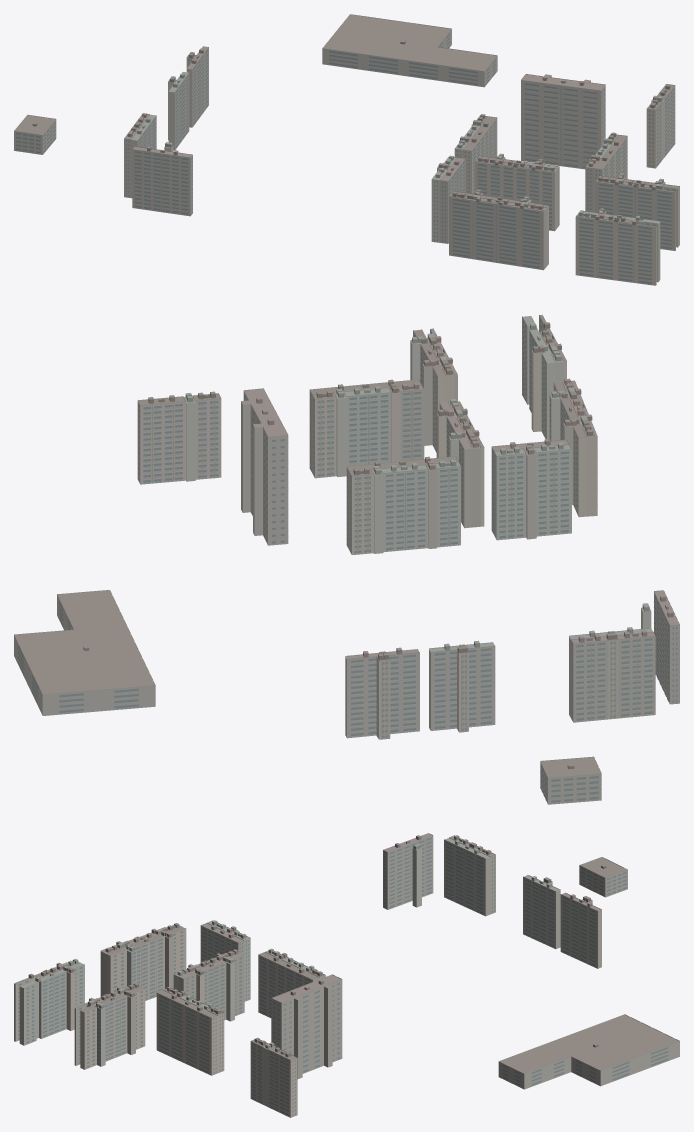
The picture shows the model from 3 angles, top to bottom: view 1: azimuth 30°, elevation 25°; view 2: azimuth 150°, elevation 25°; view 3: azimuth 270°, elevation 25°; orthographic projection. The views are drawn at different scales.
Parts seen in each view (by area): view 1: context-window-bays__context-glass, context-walls-apartment-2__context-wall-apartment-2, context-walls-apartment-1__context-wall-apartment-1, context-walls-lowrise-0__context-wall-lowrise-0, context-roofs__context-roof-1, context-balcony-fronts__context-balcony-2, context-balcony-fronts__context-balcony-1, context-floor-strips__context-trim-2, context-roofs__context-roof-2, context-walls-lowrise-1__context-wall-lowrise-1, context-walls-apartment-0__context-wall-apartment-0, context-parapet__context-trim-1 (+8 smaller); view 2: context-window-bays__context-glass, context-walls-apartment-0__context-wall-apartment-0, context-walls-apartment-1__context-wall-apartment-1, context-roofs__context-roof-1, context-walls-lowrise-0__context-wall-lowrise-0, context-walls-apartment-2__context-wall-apartment-2, context-walls-lowrise-1__context-wall-lowrise-1, context-balcony-fronts__context-balcony-0, context-balcony-fronts__context-balcony-2, context-roofs__context-roof-2, context-stair-core__context-trim-1, context-balcony-fronts__context-balcony-1 (+11 smaller); view 3: context-window-bays__context-glass, context-walls-apartment-1__context-wall-apartment-1, context-walls-lowrise-0__context-wall-lowrise-0, context-walls-apartment-2__context-wall-apartment-2, context-roofs__context-roof-1, context-walls-apartment-0__context-wall-apartment-0, context-balcony-fronts__context-balcony-1, context-walls-lowrise-1__context-wall-lowrise-1, context-roofs__context-roof-2, context-balcony-fronts__context-balcony-0, context-balcony-fronts__context-balcony-2, context-parapet__context-trim-1 (+7 smaller).
Boxes of the visible parts, x1,y1,x2,y2 form: context-window-bays__context-glass: (16, 33, 675, 283); context-walls-apartment-2__context-wall-apartment-2: (437, 75, 675, 269); context-walls-apartment-1__context-wall-apartment-1: (168, 58, 679, 285); context-walls-lowrise-0__context-wall-lowrise-0: (14, 30, 497, 216); context-roofs__context-roof-1: (14, 14, 679, 226); context-balcony-fronts__context-balcony-2: (134, 51, 671, 269); context-balcony-fronts__context-balcony-1: (188, 61, 674, 284); context-floor-strips__context-trim-2: (133, 51, 674, 270); context-roofs__context-roof-2: (124, 46, 675, 219); context-walls-lowrise-1__context-wall-lowrise-1: (124, 47, 208, 197); context-walls-apartment-0__context-wall-apartment-0: (164, 100, 665, 282); context-parapet__context-trim-1: (14, 14, 679, 227); context-window-bays__context-glass: (18, 319, 677, 802); context-walls-apartment-0__context-wall-apartment-0: (186, 317, 651, 628); context-walls-apartment-1__context-wall-apartment-1: (137, 316, 617, 739); context-roofs__context-roof-1: (14, 315, 617, 777); context-walls-lowrise-0__context-wall-lowrise-0: (14, 592, 679, 804); context-walls-apartment-2__context-wall-apartment-2: (241, 330, 597, 548); context-walls-lowrise-1__context-wall-lowrise-1: (345, 636, 655, 737); context-balcony-fronts__context-balcony-0: (349, 335, 568, 730); context-balcony-fronts__context-balcony-2: (351, 394, 668, 737); context-roofs__context-roof-2: (241, 328, 679, 658); context-stair-core__context-trim-1: (151, 349, 616, 738); context-balcony-fronts__context-balcony-1: (143, 349, 615, 739); context-window-bays__context-glass: (18, 837, 668, 1115); context-walls-apartment-1__context-wall-apartment-1: (14, 882, 592, 1117); context-walls-lowrise-0__context-wall-lowrise-0: (383, 836, 679, 1089); context-walls-apartment-2__context-wall-apartment-2: (74, 926, 342, 1078); context-roofs__context-roof-1: (14, 846, 678, 1073); context-walls-apartment-0__context-wall-apartment-0: (19, 848, 421, 1106); context-balcony-fronts__context-balcony-1: (105, 940, 310, 1116); context-walls-lowrise-1__context-wall-lowrise-1: (560, 895, 601, 968); context-roofs__context-roof-2: (56, 833, 601, 1008); context-balcony-fronts__context-balcony-0: (43, 844, 553, 1065); context-balcony-fronts__context-balcony-2: (202, 839, 595, 1019); context-parapet__context-trim-1: (14, 846, 679, 1074).
Size of the model in its own units: 393 by 62.3 by 458.
